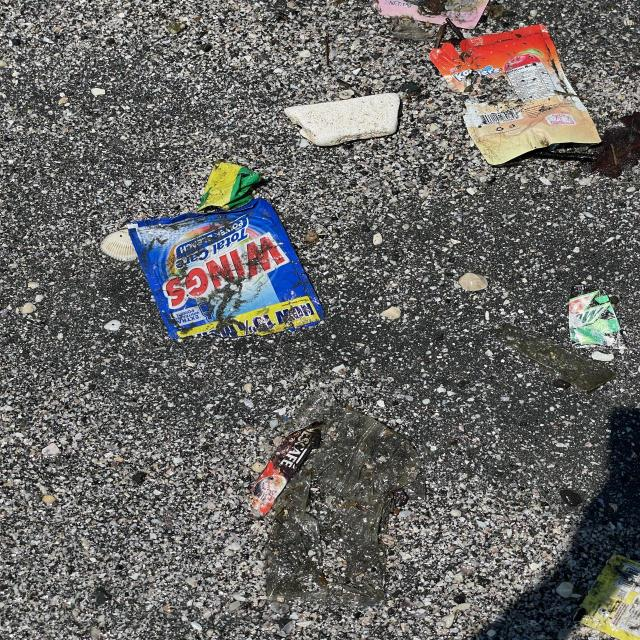plastic_waste: (121, 202, 325, 345), (425, 18, 600, 162), (252, 428, 322, 521), (570, 553, 640, 640), (375, 2, 503, 31), (251, 455, 302, 521), (197, 165, 261, 215), (570, 294, 625, 350)
styrofoam_waste: (285, 91, 407, 149)
